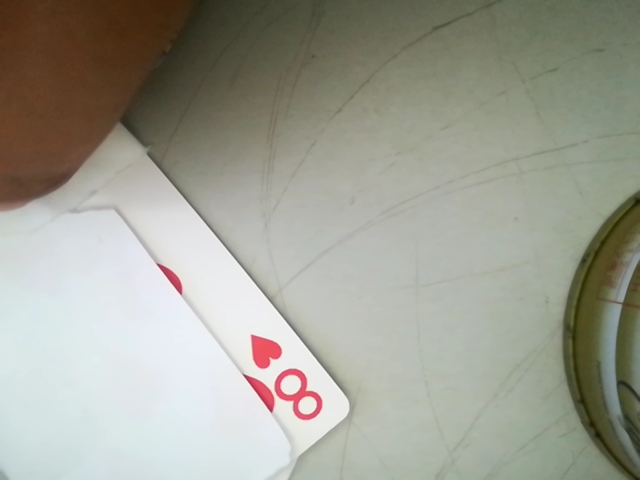hx 8: (226, 328, 332, 434)
